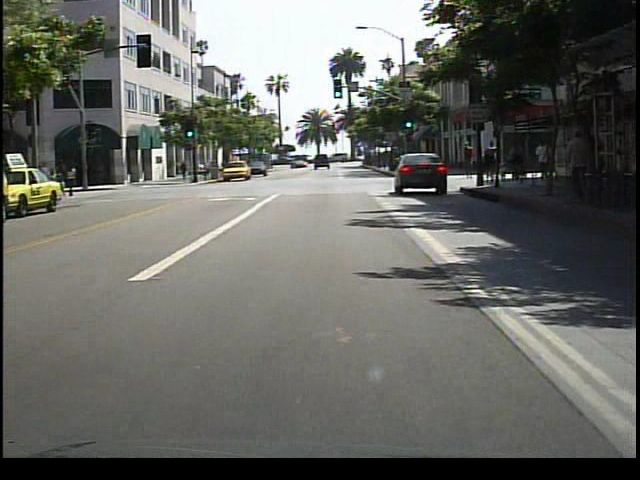person: (64, 162, 86, 203), (459, 141, 476, 184)
